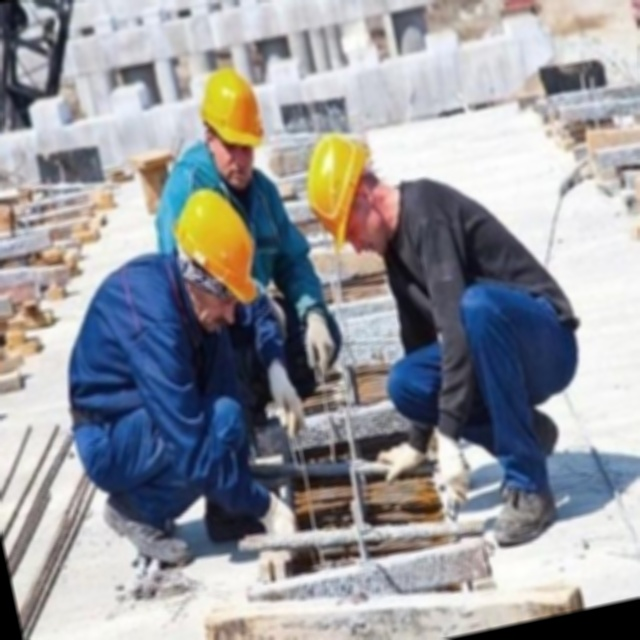Con_Casco: (295, 128, 393, 261), (192, 64, 272, 186)
